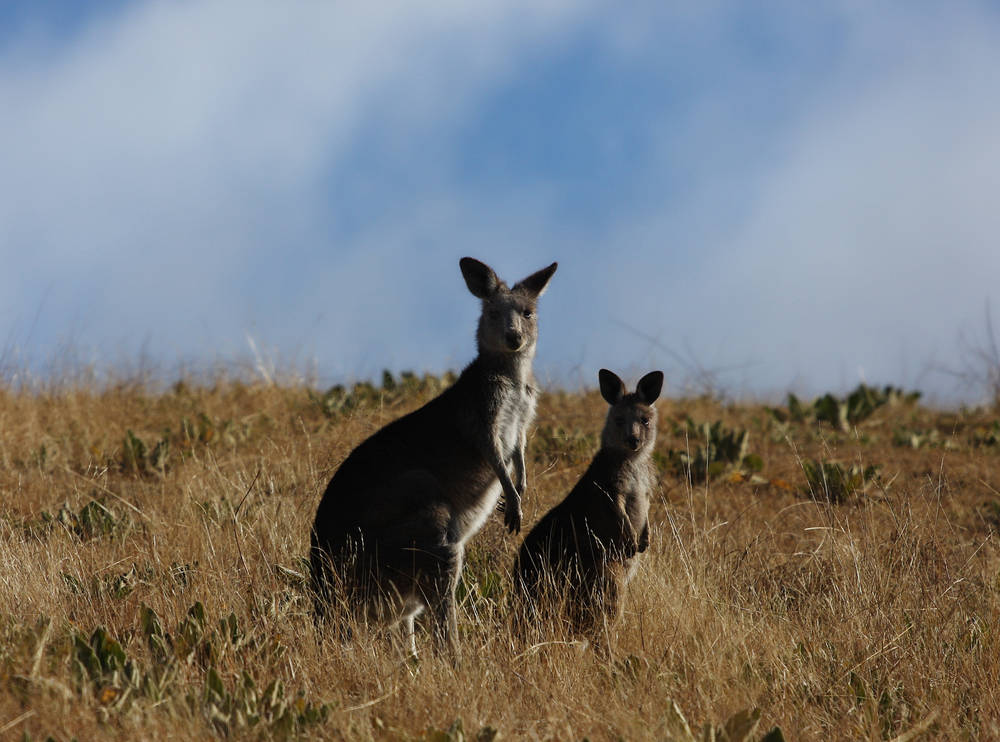kangaroo: (299, 252, 561, 679), (509, 365, 676, 660)
